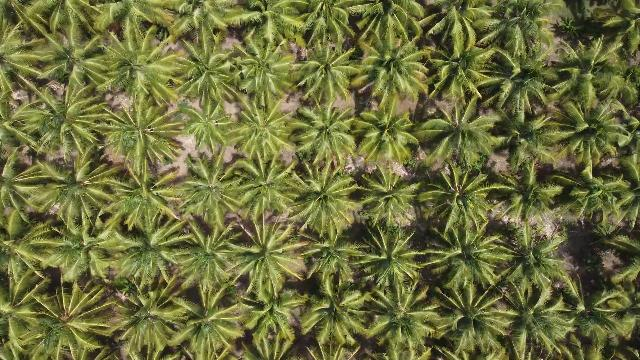trees: (9, 80, 114, 173), (12, 281, 122, 360), (14, 154, 119, 232), (420, 11, 500, 111), (90, 27, 186, 109), (9, 10, 107, 90), (93, 96, 187, 176), (430, 279, 519, 360), (422, 218, 513, 297), (492, 277, 579, 359), (228, 221, 313, 304), (98, 217, 192, 292), (419, 97, 507, 175), (355, 279, 439, 360), (547, 97, 633, 176), (422, 163, 510, 240), (101, 160, 187, 238), (549, 33, 631, 114), (284, 159, 364, 241), (559, 274, 637, 356), (22, 216, 112, 286), (225, 152, 304, 230), (301, 279, 377, 358), (497, 223, 572, 302), (491, 157, 567, 232), (560, 159, 639, 229), (349, 225, 425, 296), (357, 37, 431, 109), (483, 52, 557, 123), (173, 155, 244, 229), (232, 35, 301, 111), (226, 96, 298, 168), (292, 42, 364, 111), (177, 290, 250, 358), (354, 163, 422, 236), (477, 2, 562, 60), (238, 287, 305, 358), (501, 103, 571, 170), (293, 104, 364, 170), (352, 105, 422, 171), (302, 231, 369, 294), (352, 3, 427, 54), (291, 3, 360, 53), (94, 2, 177, 41), (164, 2, 242, 43), (3, 257, 49, 310), (592, 227, 640, 276), (594, 3, 640, 47)
